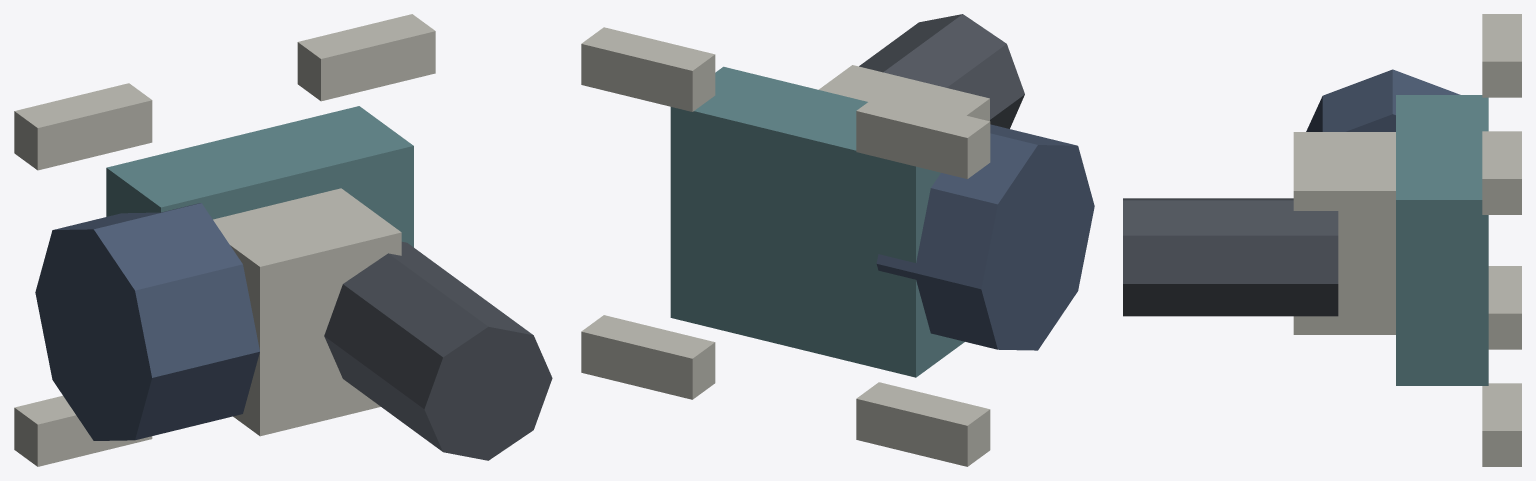
File: artillery.glb
3 renders of one model, left to right at view 1: azimuth 30°, elevation 25°; view 2: azimuth 150°, elevation 25°; view 3: azimuth 270°, elevation 25°, orthographic. The views are drawn at different scales.
Visible parts, largest first — view 1: ammo_drum, mortar, armor, base, stabilizer_01, stabilizer_03, stabilizer_04; view 2: base, ammo_drum, mortar, stabilizer_01, stabilizer_02, stabilizer_03, stabilizer_04, armor; view 3: base, mortar, armor, ammo_drum, stabilizer_01, stabilizer_03, stabilizer_02, stabilizer_04.
Boxes of the visible parts, bbox=[...] form: ammo_drum: bbox=[35, 203, 259, 440]; mortar: bbox=[324, 241, 552, 460]; armor: bbox=[213, 188, 401, 436]; base: bbox=[106, 106, 413, 247]; stabilizer_01: bbox=[297, 14, 435, 101]; stabilizer_03: bbox=[14, 83, 152, 170]; stabilizer_04: bbox=[14, 395, 152, 466]; base: bbox=[670, 66, 964, 377]; ammo_drum: bbox=[876, 124, 1094, 350]; mortar: bbox=[859, 14, 1024, 128]; stabilizer_01: bbox=[581, 27, 715, 111]; stabilizer_02: bbox=[581, 315, 715, 399]; stabilizer_03: bbox=[856, 94, 990, 178]; stabilizer_04: bbox=[856, 382, 990, 466]; armor: bbox=[818, 65, 989, 121]; base: bbox=[1396, 95, 1488, 385]; mortar: bbox=[1123, 198, 1338, 316]; armor: bbox=[1293, 132, 1395, 334]; ammo_drum: bbox=[1306, 69, 1460, 131]; stabilizer_01: bbox=[1482, 131, 1521, 214]; stabilizer_03: bbox=[1482, 14, 1521, 97]; stabilizer_02: bbox=[1482, 383, 1521, 466]; stabilizer_04: bbox=[1488, 266, 1521, 349].
Bounding box in the file's own units: 1.18 × 0.96 × 1.2.
